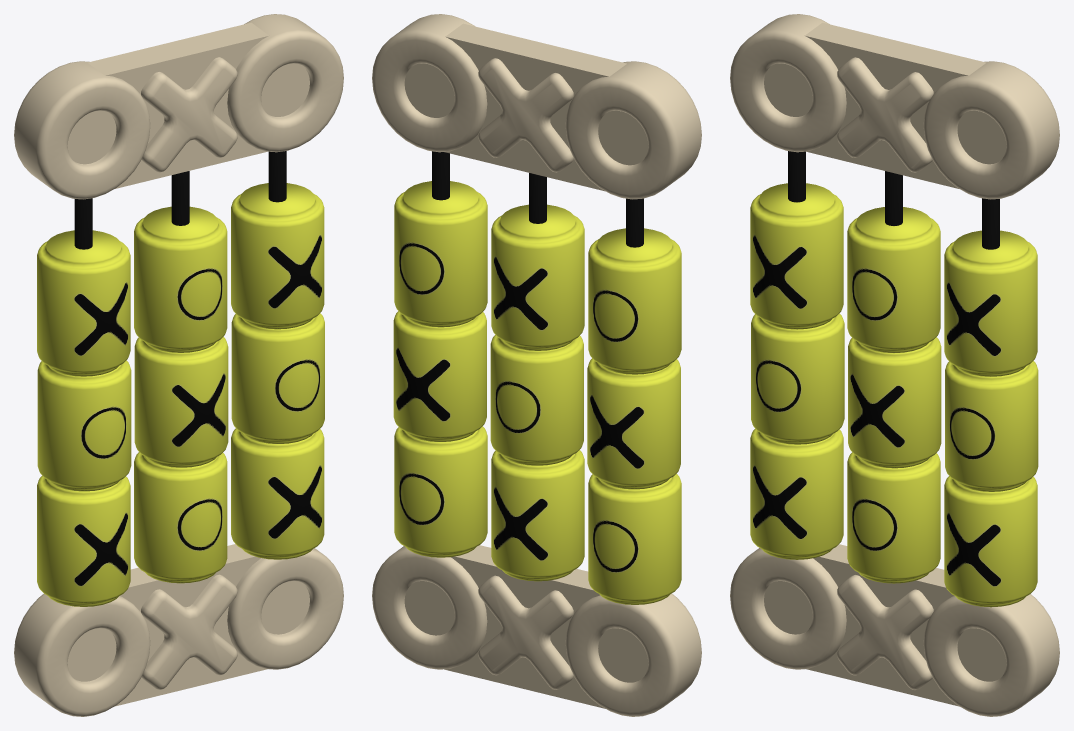
File: TIC.596e428c.glb
3 renders of one model, left to right at view 1: azimuth 30°, elevation 25°; view 2: azimuth 150°, elevation 25°; view 3: azimuth 330°, elevation 25°, orthographic.
Visible parts, largest first — view 1: Cylinder011_3, Cylinder011, Cylinder011_1, Cylinder011_2; view 2: Cylinder011_3, Cylinder011, Cylinder011_1, Cylinder011_2; view 3: Cylinder011_3, Cylinder011, Cylinder011_1, Cylinder011_2.
Part boxes in pixels (x1=…): Cylinder011_3: x1=14, y1=14, x2=343, y2=716; Cylinder011: x1=37, y1=183, x2=324, y2=606; Cylinder011_1: x1=37, y1=209, x2=324, y2=590; Cylinder011_2: x1=74, y1=151, x2=286, y2=249; Cylinder011_3: x1=372, y1=14, x2=701, y2=716; Cylinder011: x1=393, y1=181, x2=681, y2=604; Cylinder011_1: x1=394, y1=207, x2=680, y2=599; Cylinder011_2: x1=432, y1=151, x2=643, y2=247; Cylinder011_3: x1=730, y1=14, x2=1059, y2=716; Cylinder011: x1=750, y1=183, x2=1038, y2=607; Cylinder011_1: x1=751, y1=209, x2=1037, y2=591; Cylinder011_2: x1=788, y1=151, x2=999, y2=249.
Size of the model in its own units: 0.3465 by 0.6862 by 0.0914.
Materials: 4 (2 with a texture image).
